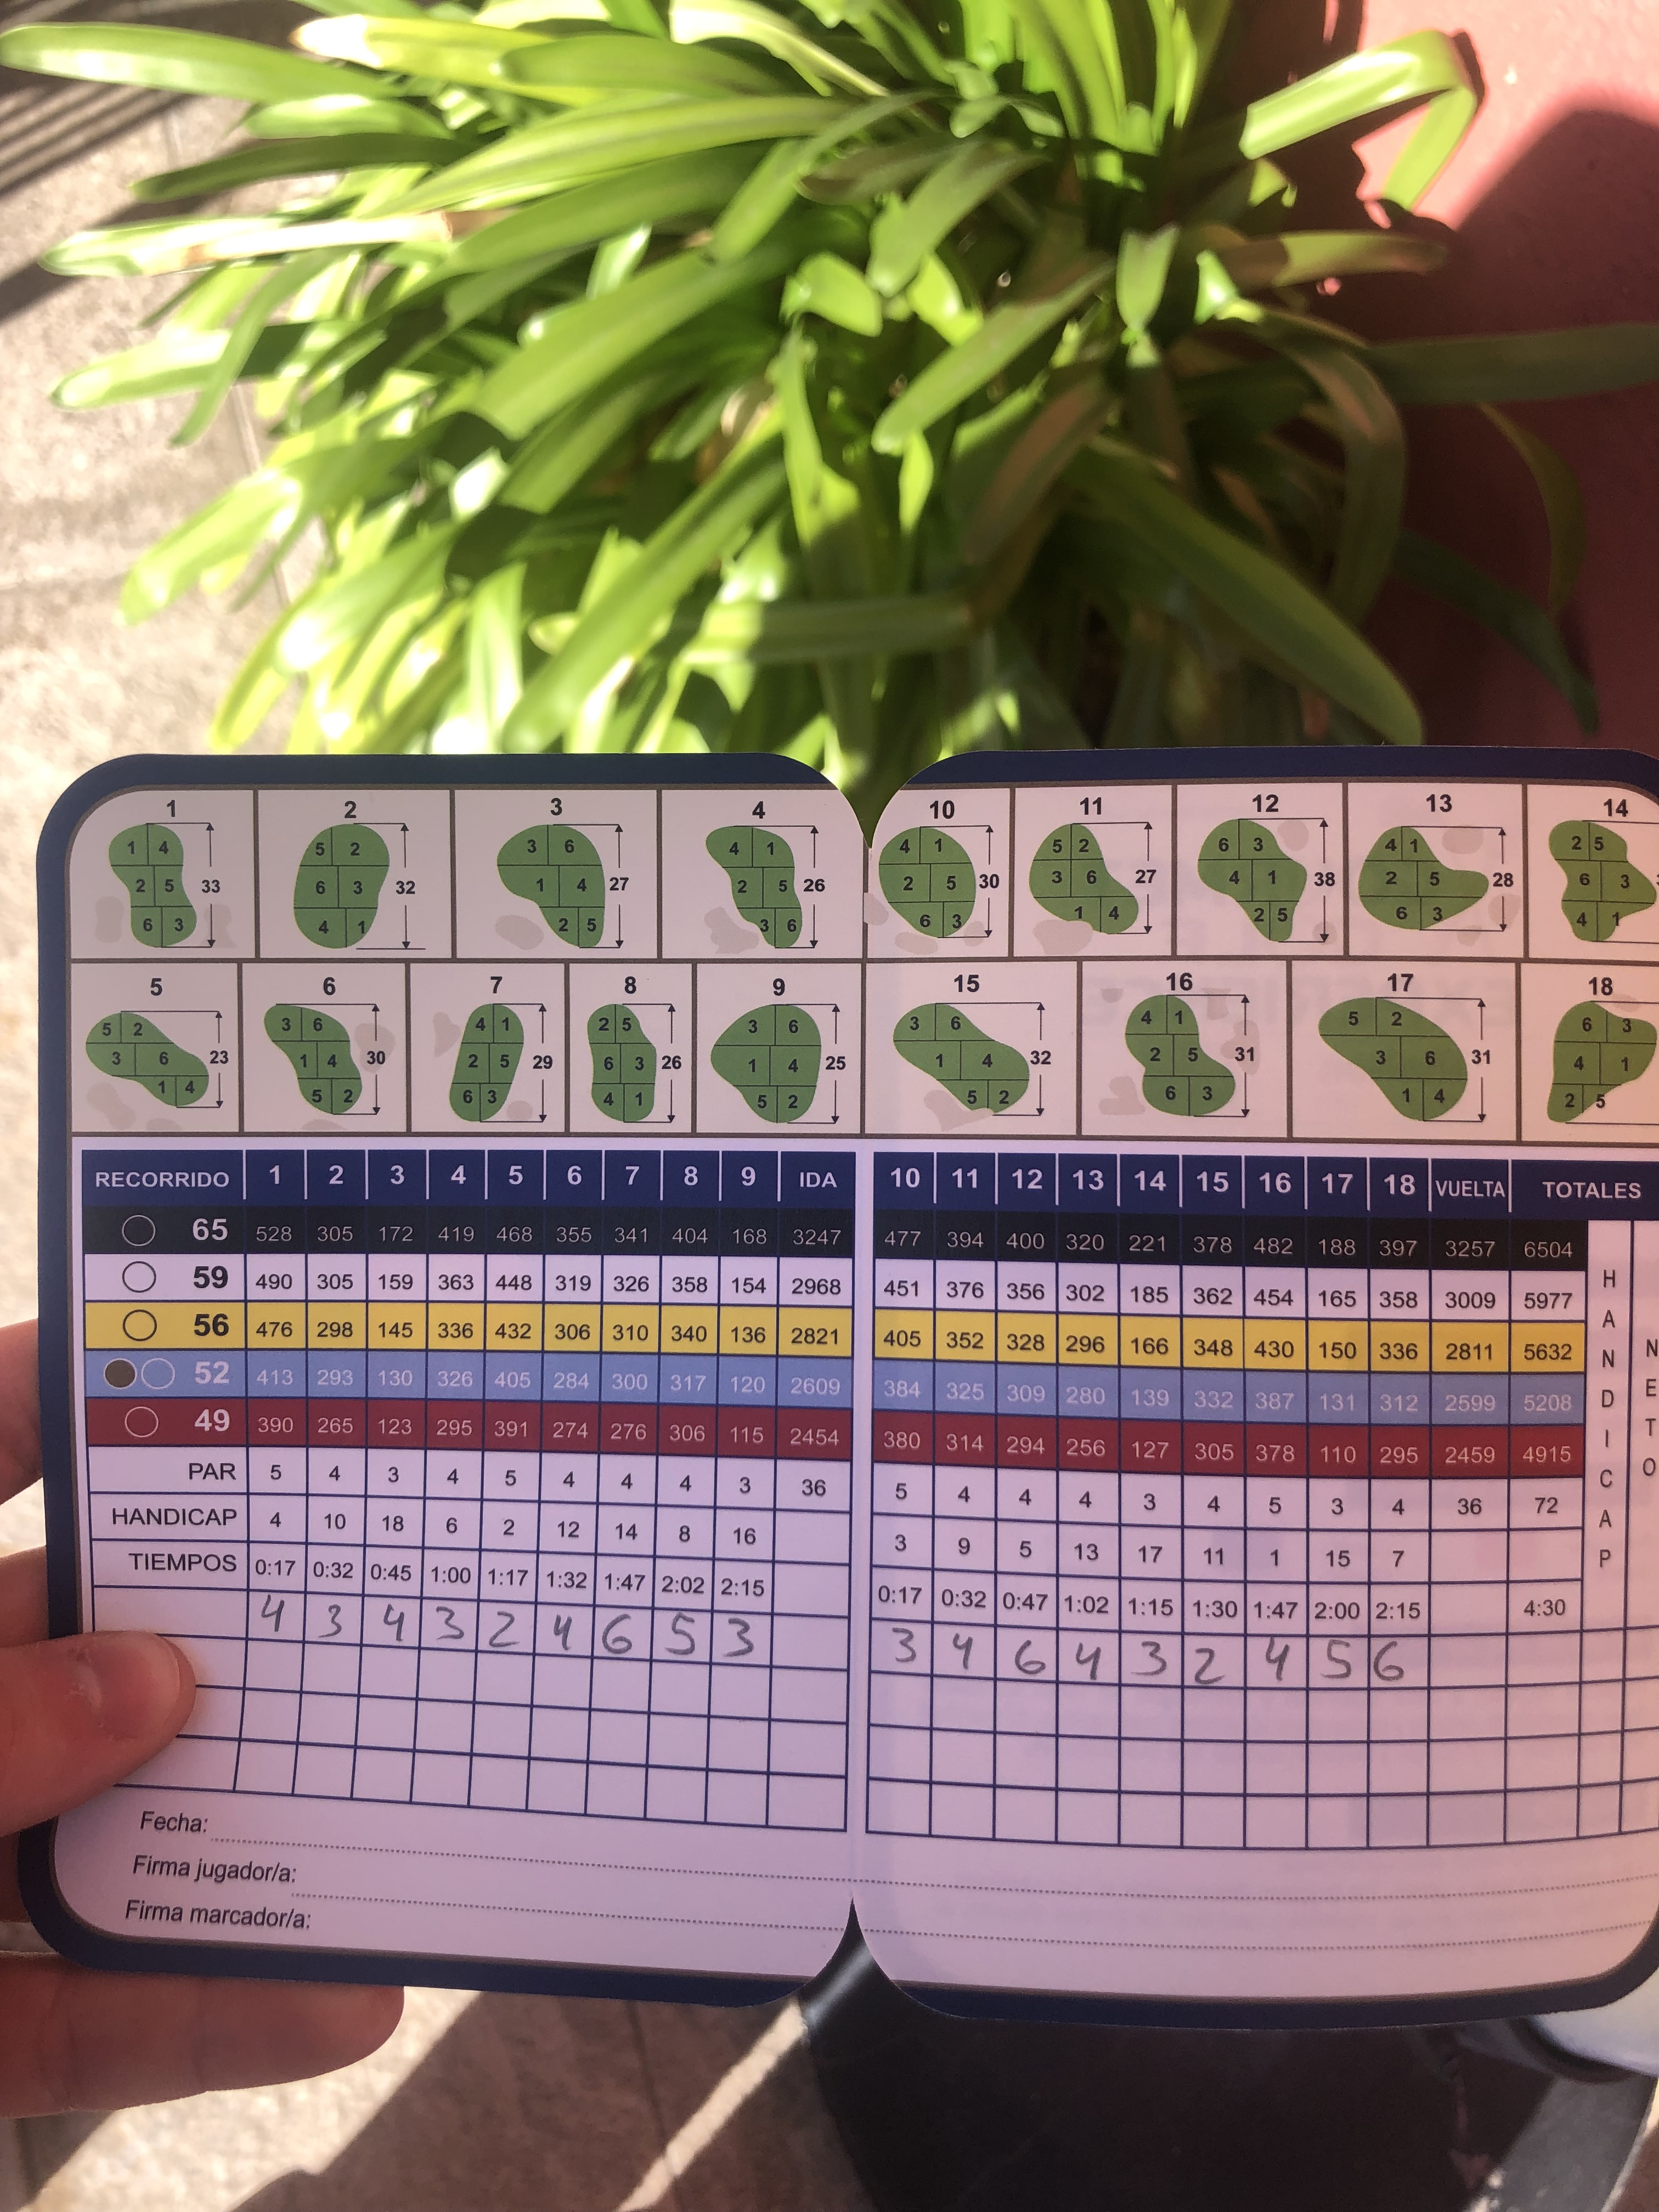par: (185, 1461, 1567, 1519)
score: (261, 1599, 1412, 1693)
